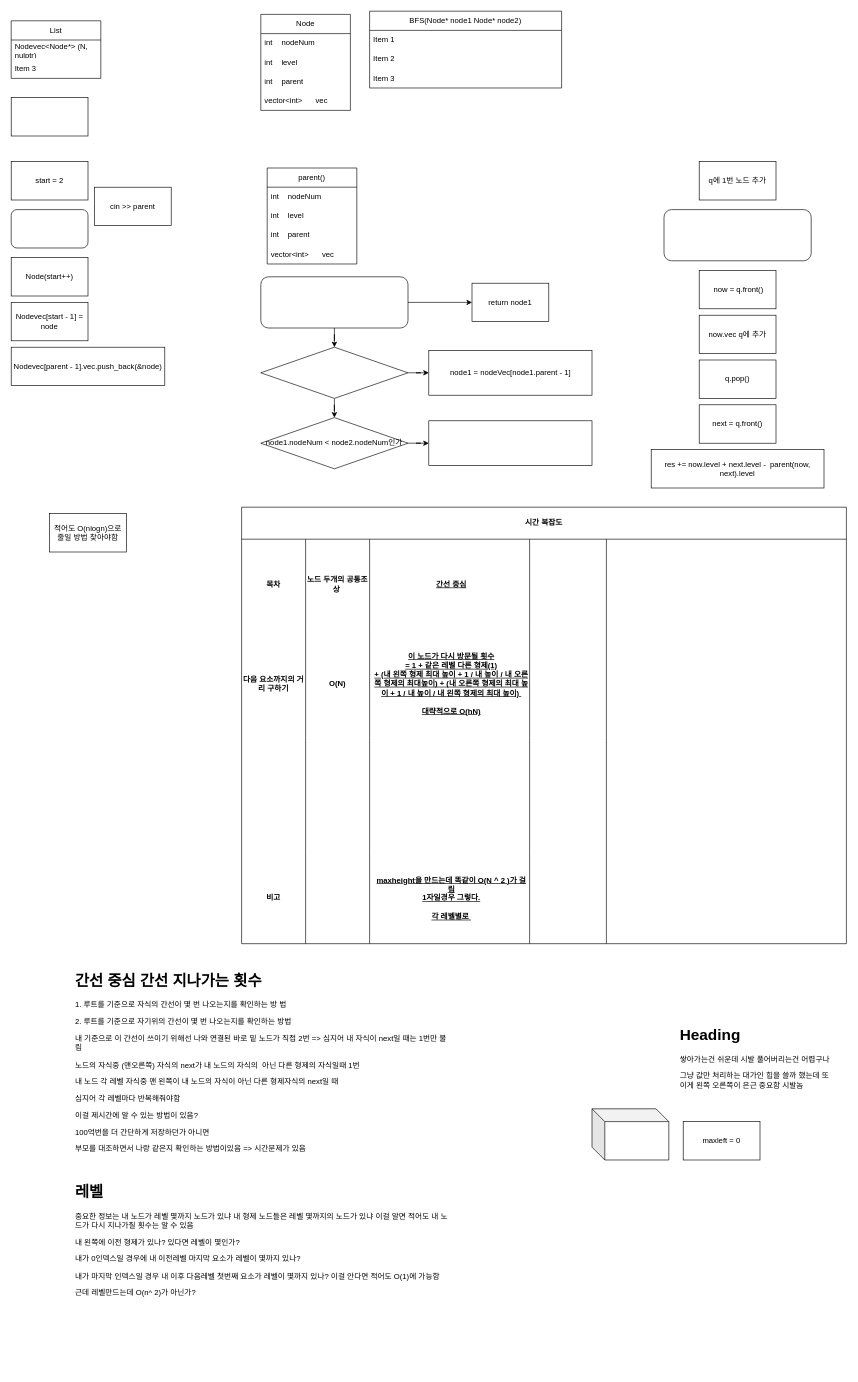
Image size: 858x1382. Some labels were removed from this diagram. The shapes that lost their labels are listed below. From the top down, each one's centre as x and y in pixels, then its label:
At (49,228): "N - 1 번 만큼 반복".
At (737,235): "!q.empty()일 동안 반복".
At (334,302): "node1.nodeNum == node2.nodeNum동안 반복".
At (334,372): "node1.nodeNum > node2.nodeNum인가".
At (510,443): "node2 = nodeVec[node2.parent - 1]".
At (630,1134): "각 레벨별로 반복".
